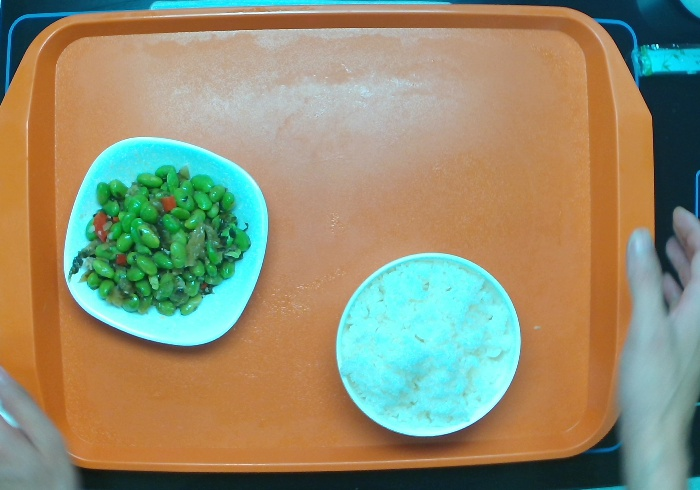ZNLD-Fan_Wan: (334, 248, 523, 439)
ZNLD-Si_Fang_Wan: (61, 133, 272, 350)
